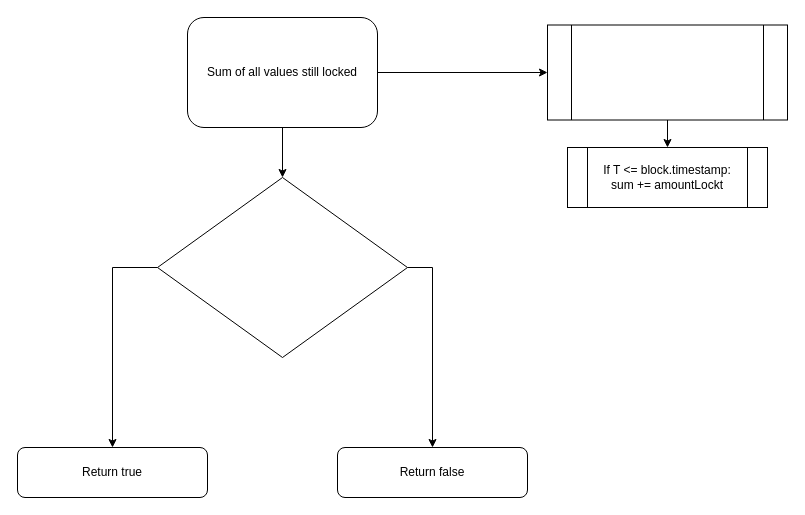
The diagram is 805 pixels wide and 515 high, and some of its shapes have lost their labels. Each missing label, with the box of its shape:
Balance - Amount >= SUM(Blocked): (156, 176, 408, 358)
For all AmountLock: (546, 24, 788, 120)
